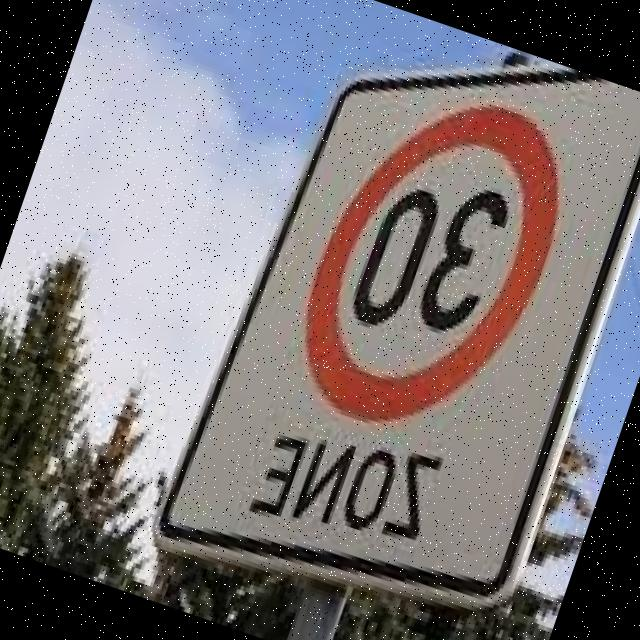speed_limit_30: (250, 42, 608, 472)
